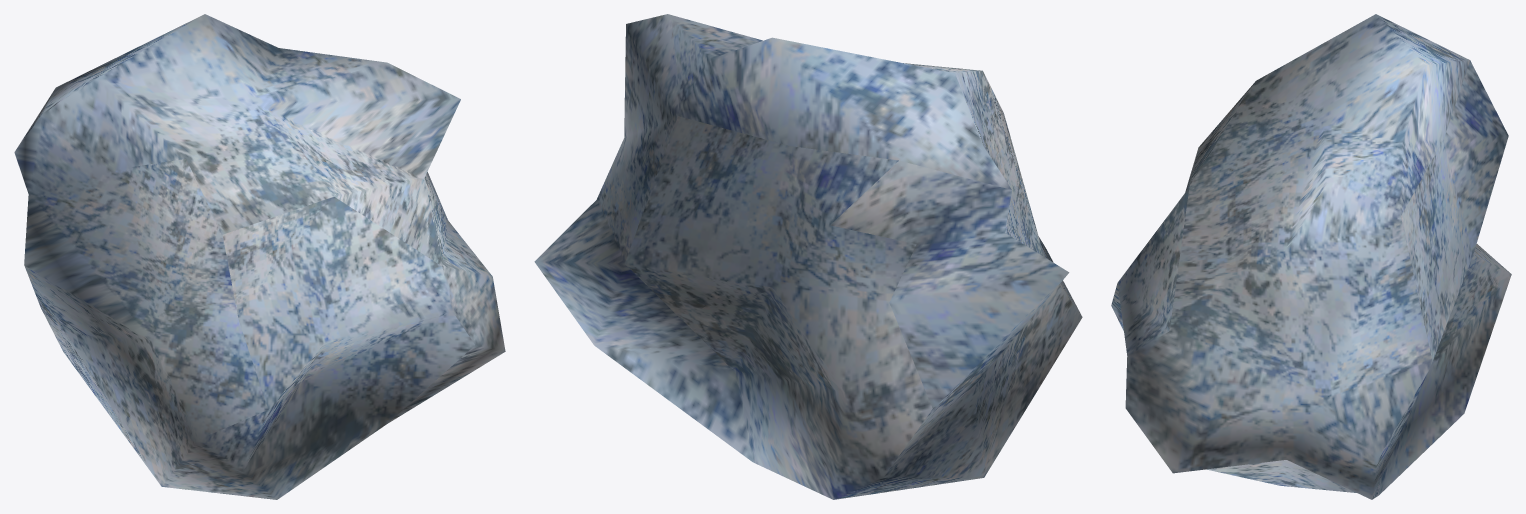
File: asteroid_ice_small_s02_l2.fbx
The picture shows the model from 3 angles, left to right: view 1: azimuth 30°, elevation 25°; view 2: azimuth 150°, elevation 25°; view 3: azimuth 270°, elevation 25°; orthographic projection. The views are drawn at different scales.
Parts seen in each view (by area): view 1: mesh_node; view 2: mesh_node; view 3: mesh_node.
Boxes of the visible parts, <box> form: mesh_node: <box>14,14,505,499</box>; mesh_node: <box>534,14,1082,499</box>; mesh_node: <box>1111,14,1511,499</box>.
Bounding box in the file's own units: 21.9 × 19.7 × 16.21.
